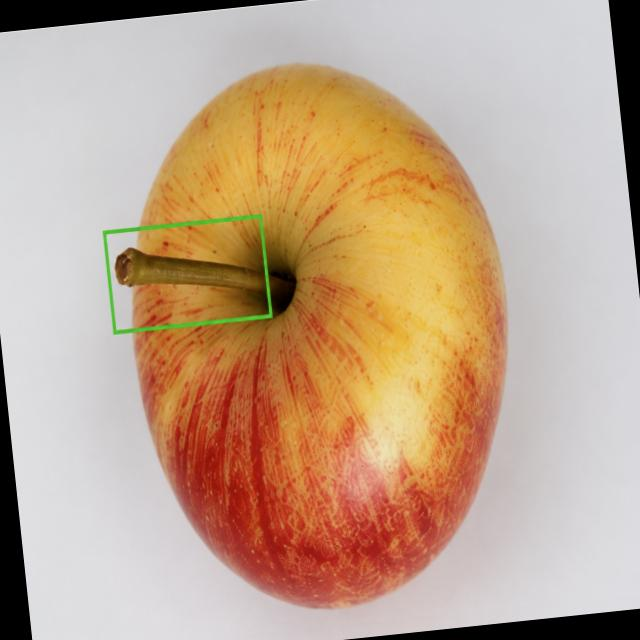Fruit-Stem-Detection: (112, 251, 267, 288)
